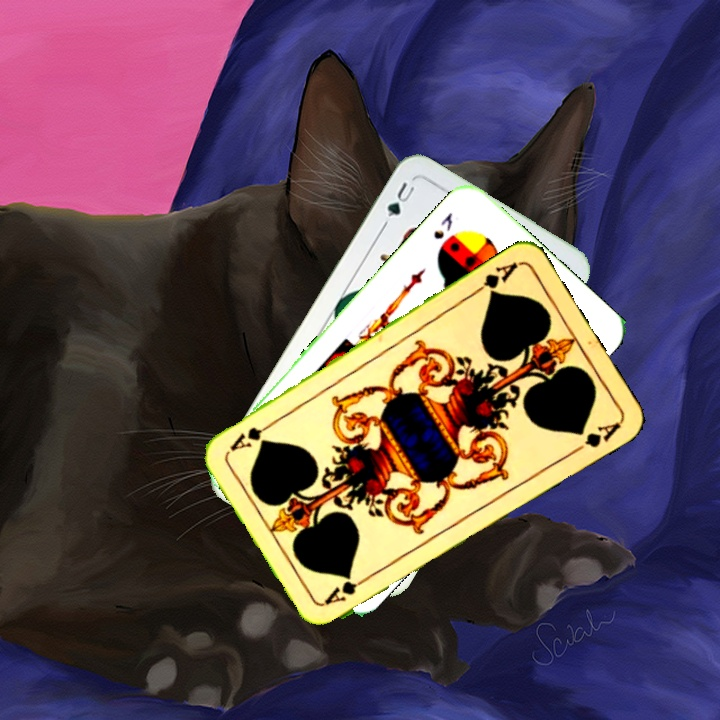GA: (469, 257, 521, 299), (320, 571, 374, 608)
GU: (379, 178, 418, 229)
SK: (429, 208, 456, 242)
